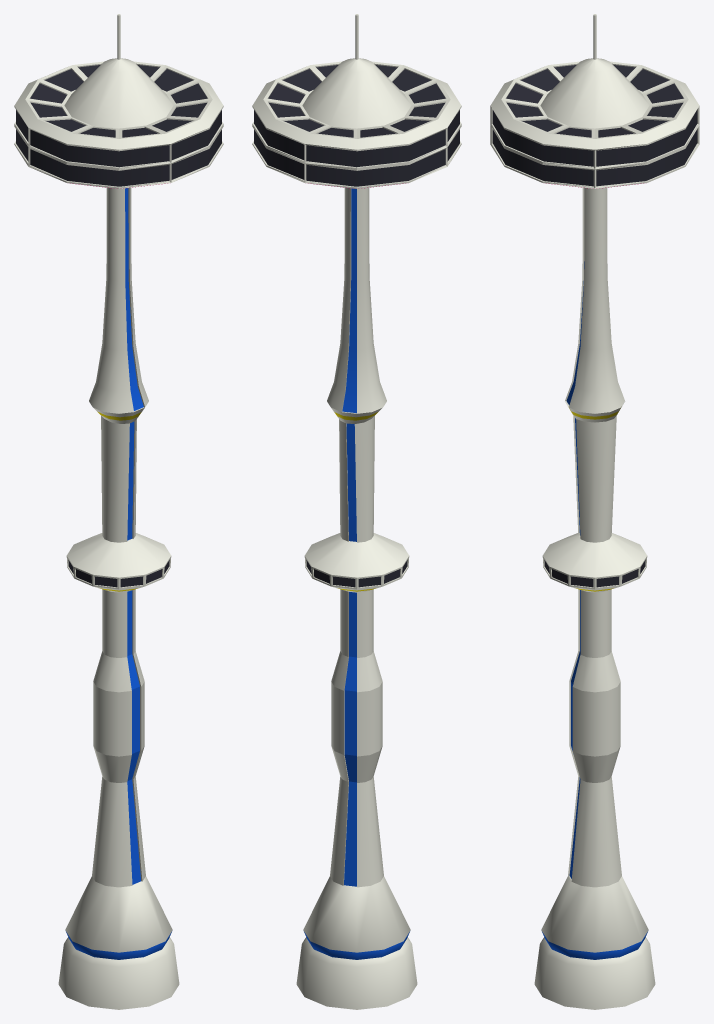
File: AshTower.FBX
The picture shows the model from 3 angles, left to right: view 1: azimuth 30°, elevation 25°; view 2: azimuth 150°, elevation 25°; view 3: azimuth 270°, elevation 25°; orthographic projection.
Visible parts, largest first — view 1: AshTower; view 2: AshTower; view 3: AshTower.
Boxes of the visible parts, x1=… form: AshTower: x1=14, y1=14, x2=223, y2=1009; AshTower: x1=252, y1=14, x2=461, y2=1009; AshTower: x1=490, y1=14, x2=699, y2=1009.
Bounding box in the file's own units: 125 × 640 × 125.
